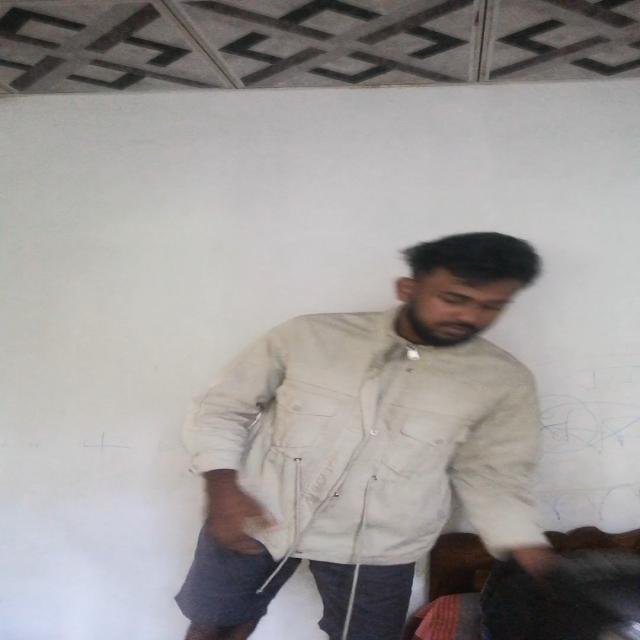Jacket_Wearer: (198, 306, 576, 582)
Person: (185, 215, 568, 640)
